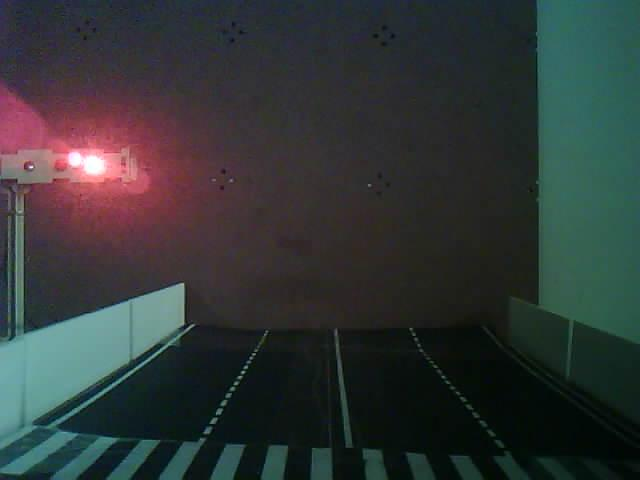crosswalk: (4, 419, 313, 480)
red: (2, 126, 172, 321)
